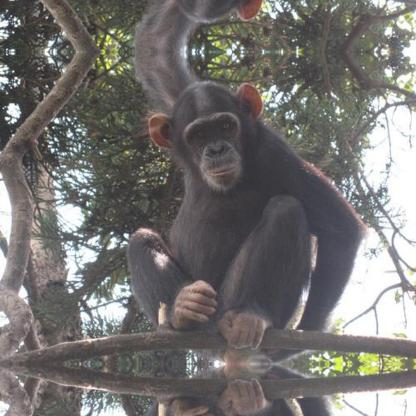Monkey: (124, 81, 366, 363)
